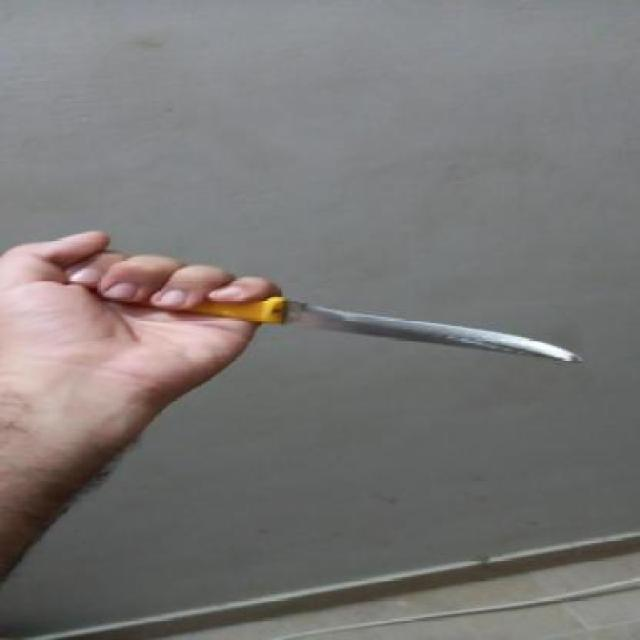knife: (143, 298, 582, 366)
